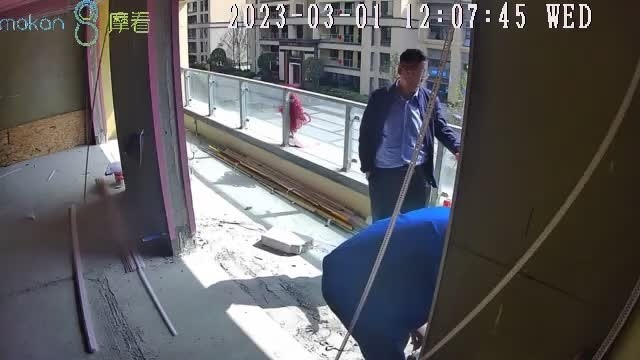people: (358, 48, 463, 331)
window: (180, 1, 469, 206)
